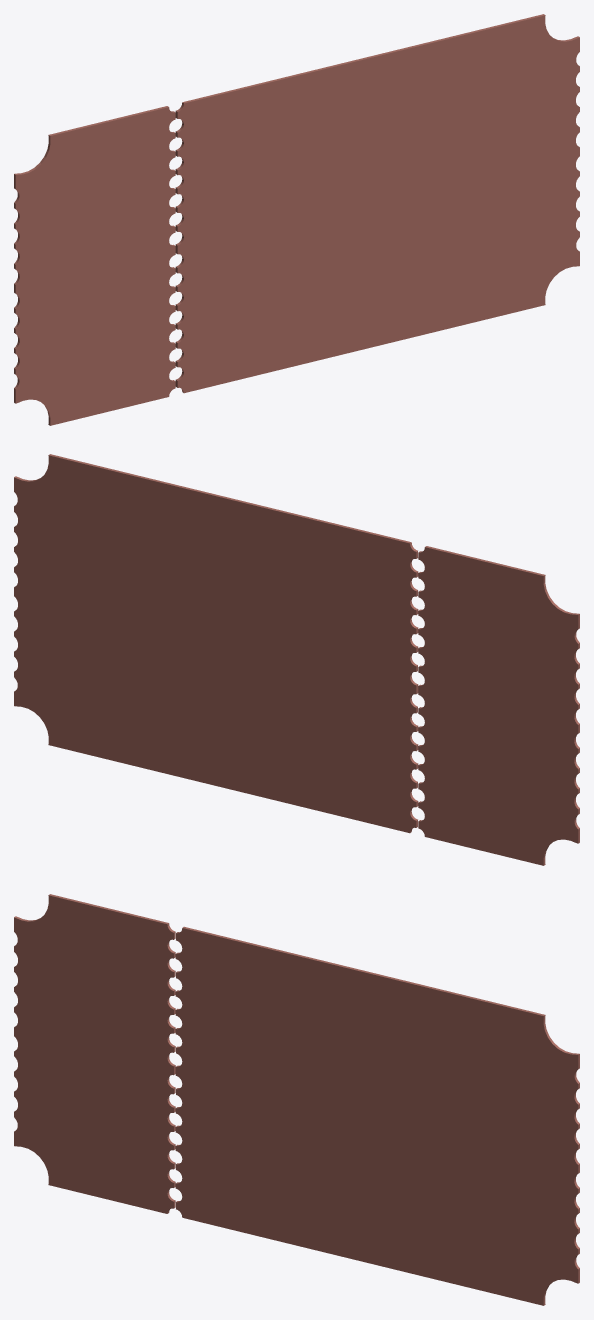
The model's file is ticket-copper.glb.
3 renders of one model, top to bottom at view 1: azimuth 30°, elevation 25°; view 2: azimuth 150°, elevation 25°; view 3: azimuth 330°, elevation 25°, orthographic.
Parts seen in each view (by area): view 1: Ticket; view 2: Ticket; view 3: Ticket.
Part boxes in pixels (x1,y1,x2,y2): Ticket: [14, 14, 579, 425]; Ticket: [14, 454, 579, 865]; Ticket: [14, 894, 579, 1305].
Size of the model in its own units: 0.5084 by 0.2495 by 0.00265.
